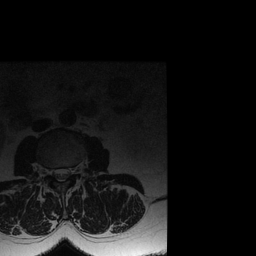CCS_stenosis: (58, 162, 64, 187)
LFS_normal: (70, 161, 76, 180)
LLS_normal: (64, 163, 70, 182)
RFS_normal: (46, 162, 52, 180)
RLS_normal: (52, 164, 58, 182)
